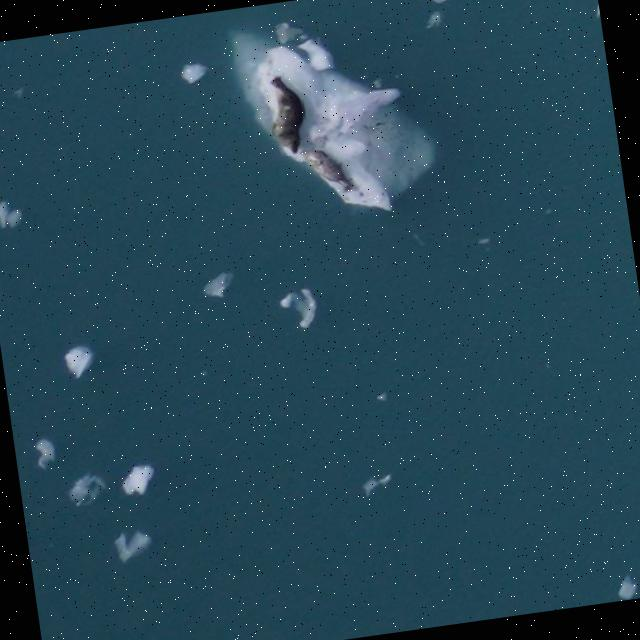seal: (299, 138, 358, 201), (271, 74, 304, 155)
